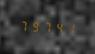four: (51, 20, 61, 34)
nine: (29, 19, 39, 33)
one: (62, 20, 72, 35)
seven: (40, 19, 50, 34), (18, 18, 28, 32)
